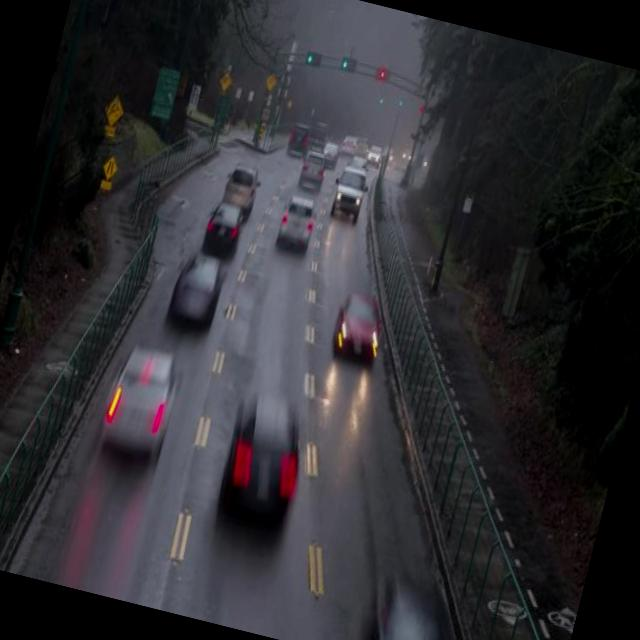Vehicle: (195, 362, 324, 560), (84, 332, 192, 486), (323, 278, 395, 372), (164, 246, 232, 329), (315, 168, 378, 240), (268, 182, 322, 262), (214, 148, 264, 204), (202, 192, 246, 252), (294, 145, 328, 182)
